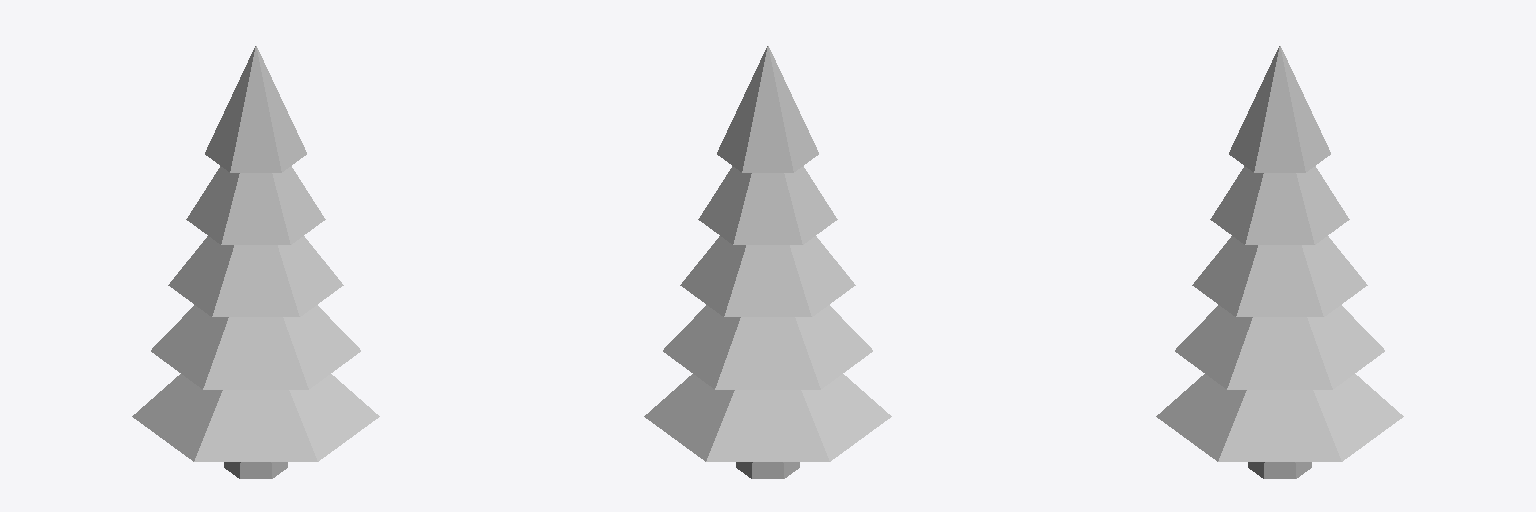
Rendered from tree_1.obj.
3 renders of one model, left to right at view 1: azimuth 30°, elevation 25°; view 2: azimuth 150°, elevation 25°; view 3: azimuth 270°, elevation 25°, orthographic.
Visible parts, largest first — view 1: Tree.004_Mat_tree_0; view 2: Tree.004_Mat_tree_0; view 3: Tree.004_Mat_tree_0.
Boxes of the visible parts, x1,y1,x2,y2 form: Tree.004_Mat_tree_0: [132, 46, 379, 478]; Tree.004_Mat_tree_0: [644, 46, 891, 478]; Tree.004_Mat_tree_0: [1156, 46, 1403, 478].
Bounding box in the file's own units: 2.83 × 6.14 × 3.26.